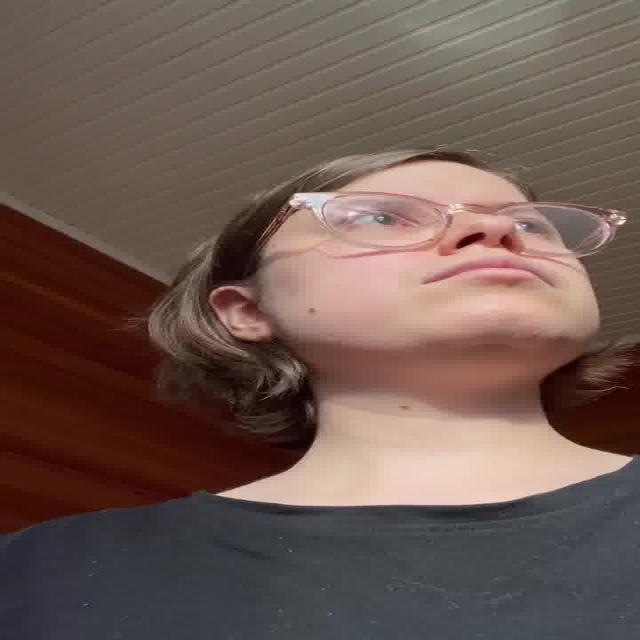earlobe: (242, 321, 277, 343)
eye: (443, 240, 528, 260), (345, 211, 416, 230), (507, 218, 554, 235)
wholeear: (208, 284, 277, 342)
